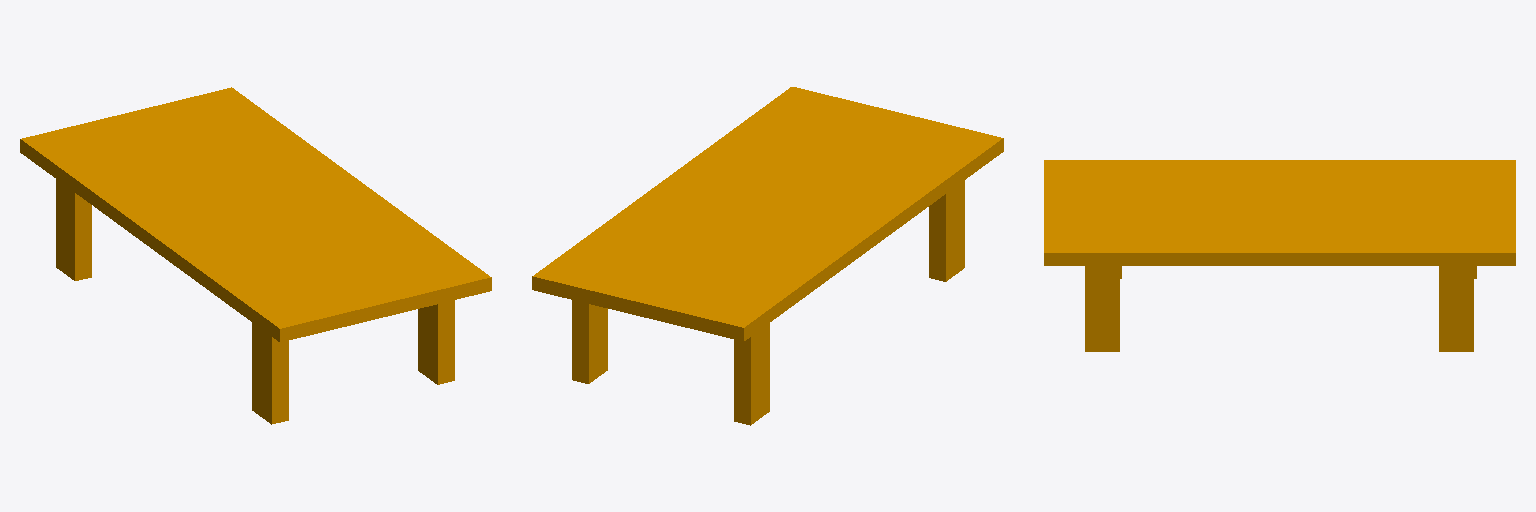
robot.urdf — table:
<?xml version="1.0" ?>
<robot name="table" xmlns:xacro="http://www.ros.org/wiki/xacro">
    <link name="table">
        <inertial>
            <origin rpy="0 0 0" xyz="0 0 0"/>
            <mass value="0.0"/>
            <inertia ixx="0.03" ixy="0" ixz="0" iyy="0.03" iyz="0" izz="0.03"/>
        </inertial>
        <visual>
            <origin rpy="0 0 0" xyz="0 0 0"/>
            <geometry>
                <mesh filename="package://kuka_gripper_description/meshes/table.obj"/>
            </geometry>
            <material name="table">
                <texture filename="package://kuka_gripper_description/meshes/table.png"/>
            </material>
        </visual>
        <collision>
            <origin rpy="0 0 0" xyz="0 0 0"/>
            <geometry>
                <mesh filename="package://kuka_gripper_description/meshes/table.obj"/>
            </geometry>
        </collision>
    </link>
</robot>

--- What the picture shows (computed from the rendered views, not written in the file) ---
The picture shows the robot from 3 angles, left to right: view 1: azimuth 30°, elevation 25°; view 2: azimuth 150°, elevation 25°; view 3: azimuth 270°, elevation 25°; orthographic projection.
Robot: table — 1 links, 0 joints (none); root link table; default pose: every joint at zero.
Links seen in each view (by area): view 1: table; view 2: table; view 3: table.
Boxes of the visible links, x1,y1,x2,y2 form: table: (20,87,491,424); table: (532,87,1003,425); table: (1044,160,1515,351).
Bounding box of the posed robot: 0.8 × 1.7 × 0.4211 m (x, y, z).
1 mesh visuals loaded from 1 distinct referenced files (1 OBJ).